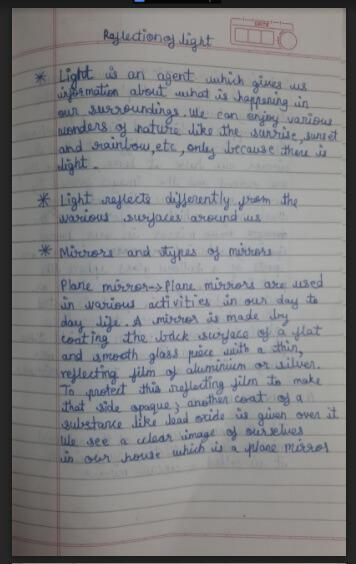text: (33, 63, 307, 96), (57, 99, 334, 130), (56, 117, 339, 147), (58, 371, 323, 403), (60, 355, 322, 387), (58, 437, 331, 467), (56, 81, 311, 113), (61, 388, 306, 420), (60, 405, 340, 433), (59, 323, 323, 351), (57, 135, 328, 162), (58, 421, 305, 450), (61, 339, 304, 367), (36, 188, 300, 213), (59, 307, 291, 335), (59, 271, 325, 295), (36, 241, 273, 267), (59, 292, 319, 312), (57, 207, 263, 230), (102, 27, 215, 54), (54, 153, 100, 178), (254, 21, 271, 29)
